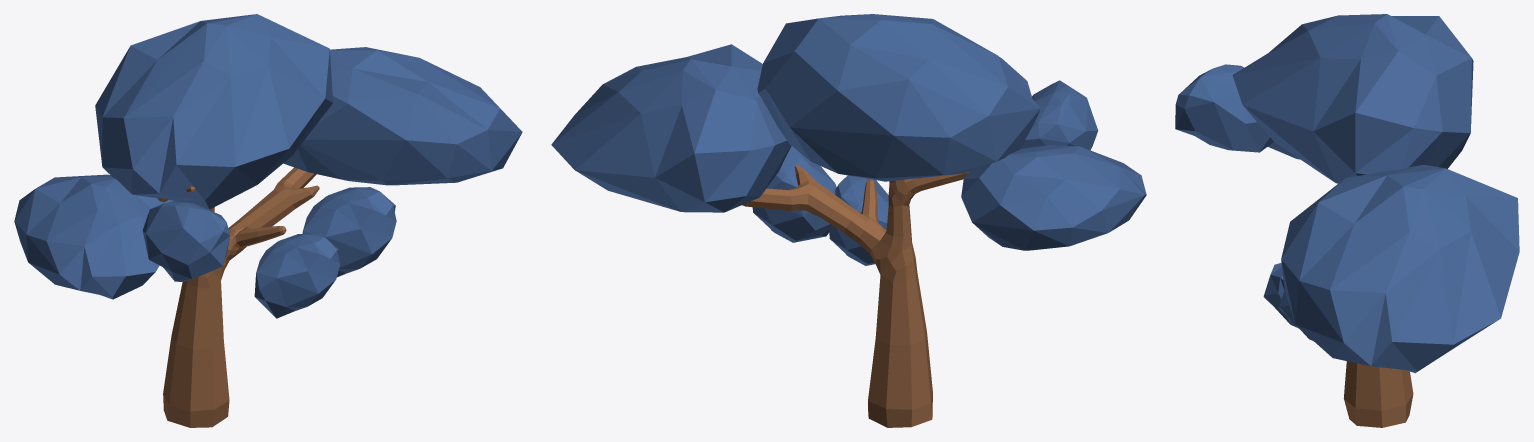
File: tree-winter-complete-5-009.glb
3 views of the same model, side by side, from view 1: azimuth 30°, elevation 25°; view 2: azimuth 150°, elevation 25°; view 3: azimuth 270°, elevation 25° (orthographic). The views are drawn at different scales.
Parts seen in each view (by area): view 1: TREE 5.005_202, TREE 5.004_203; view 2: TREE 5.005_202, TREE 5.004_203; view 3: TREE 5.005_202, TREE 5.004_203.
Part boxes in pixels (x1,y1,x2,y2): TREE 5.005_202: (14,14,522,318); TREE 5.004_203: (157,167,319,427); TREE 5.005_202: (551,14,1146,265); TREE 5.004_203: (742,165,968,427); TREE 5.005_202: (1175,14,1519,373); TREE 5.004_203: (1343,361,1413,427).
Bounding box in the file's own units: 1.99 × 1.48 × 1.12.
